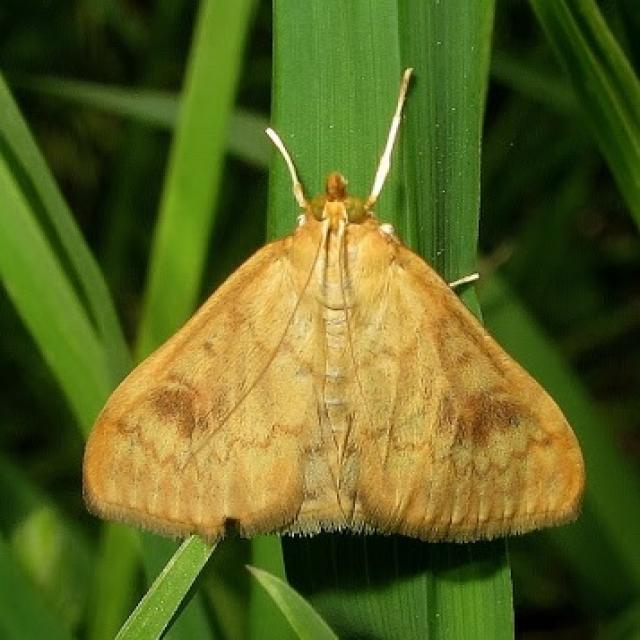cornborer-Adult-: (74, 50, 603, 554)
